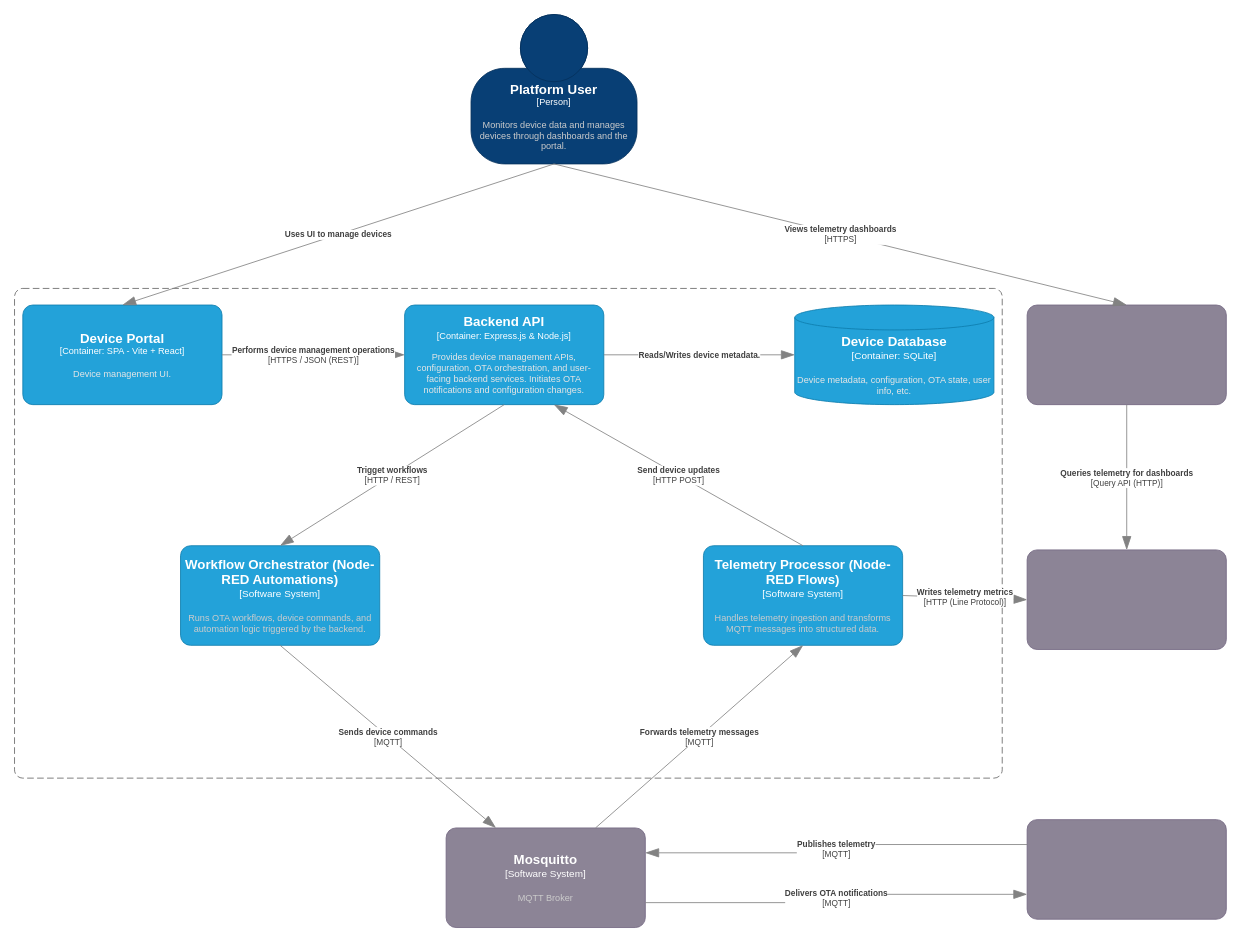
Image size: 1241x942. Some labels were removed from this diagram. Each missing label, with the box of its shape:
Grafana [Software System] Telemetry Visualization: (1026, 304, 1226, 405)
InfluxDB [Software System] Stores Telemetry Data: (1026, 549, 1226, 649)
IoT Gateway [Software System] Sends Telemetry and Received OTA updates: (1026, 819, 1226, 919)
IoT Management Platform Backend [Container]: (14, 288, 1002, 778)
